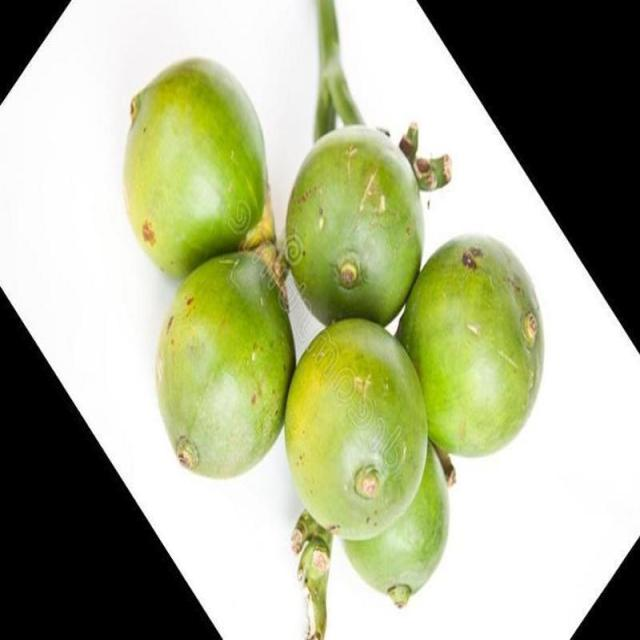good: (122, 59, 271, 283), (396, 235, 545, 459), (156, 253, 297, 483), (285, 321, 428, 541), (282, 125, 426, 331)
